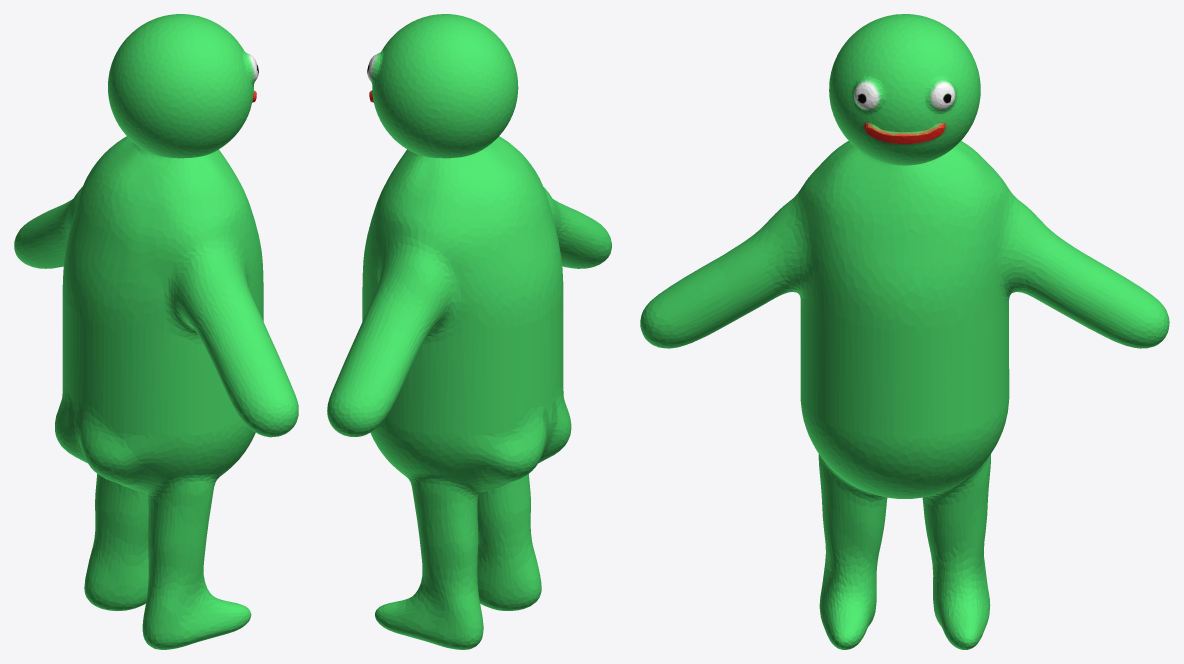
The model's file is player.glb.
The picture shows the model from 3 angles, left to right: view 1: azimuth 30°, elevation 25°; view 2: azimuth 150°, elevation 25°; view 3: azimuth 270°, elevation 25°; orthographic projection. The views are drawn at different scales.
Visible parts, largest first — view 1: Body, Head; view 2: Body, Head; view 3: Body, Head.
Part boxes in pixels (x1,y1,x2,y2): Body: (14,136,298,649); Head: (108,14,258,158); Body: (327,136,611,649); Head: (367,14,518,158); Body: (640,141,1169,649); Head: (829,14,980,165).
Bounding box in the file's own units: 2.04 × 6.55 × 5.06.
2 materials, 2 textured.
